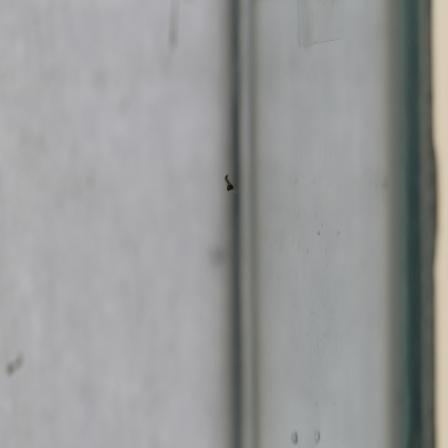Jentik-Nyamuk: (218, 167, 239, 198)
